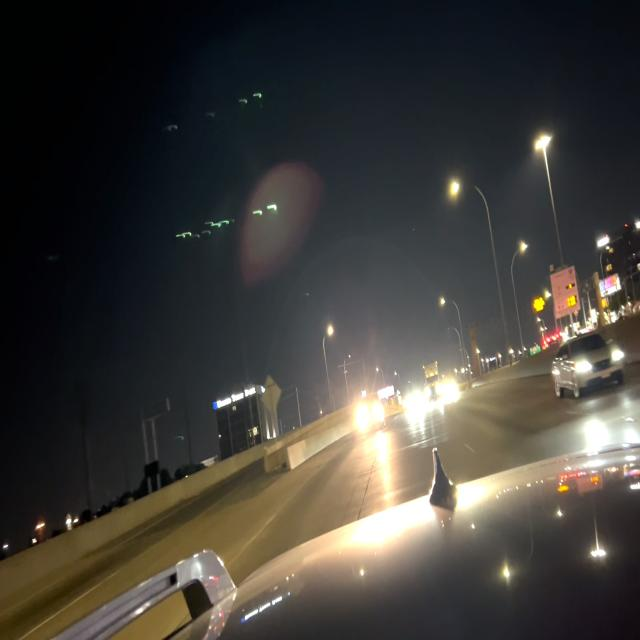back-of-sign: (260, 375, 281, 418)
